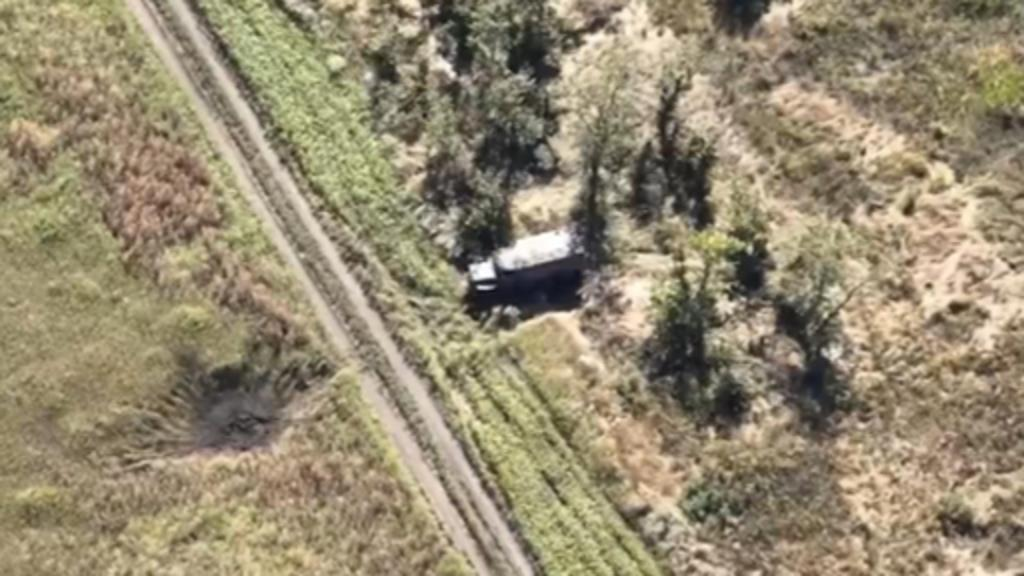TRUCK: (458, 220, 592, 304)
